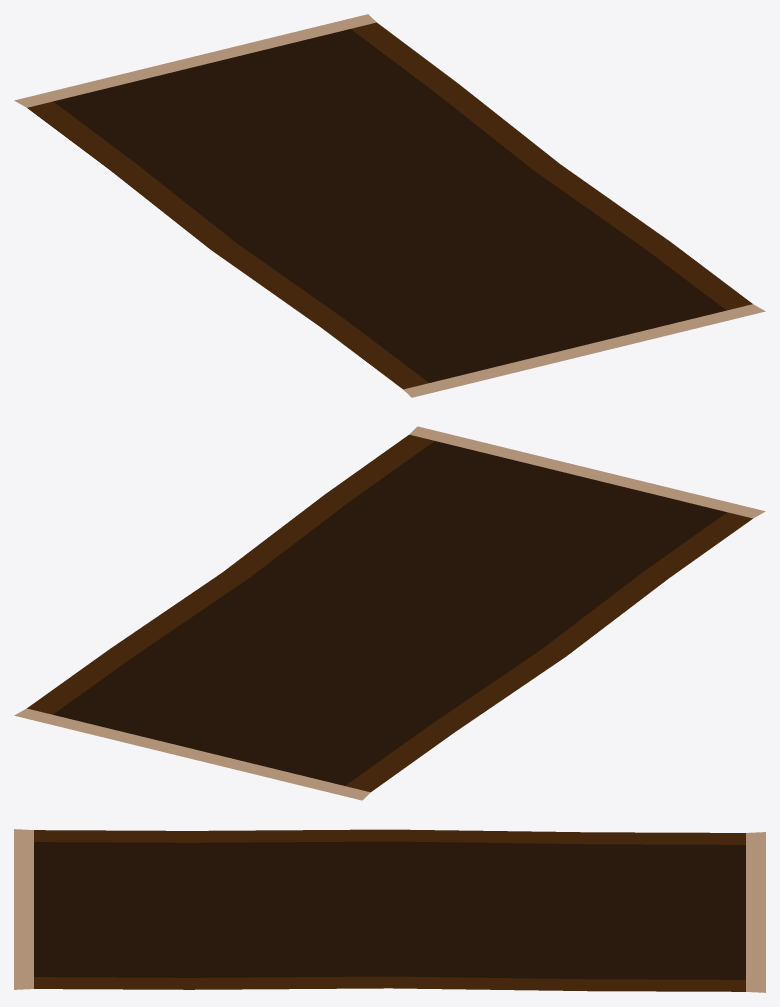
File: carpet.glb
3 views of the same model, one above another, from view 1: azimuth 30°, elevation 25°; view 2: azimuth 150°, elevation 25°; view 3: azimuth 270°, elevation 25° (orthographic). The views are drawn at different scales.
Parts seen in each view (by area): view 1: Plane; view 2: Plane; view 3: Plane.
Boxes of the visible parts, <box> form: Plane: <box>14,14,765,397</box>; Plane: <box>14,426,765,800</box>; Plane: <box>14,829,765,992</box>.
Bounding box in the file's own units: 1.03 × 0 × 2.
1 material, 1 textured.
